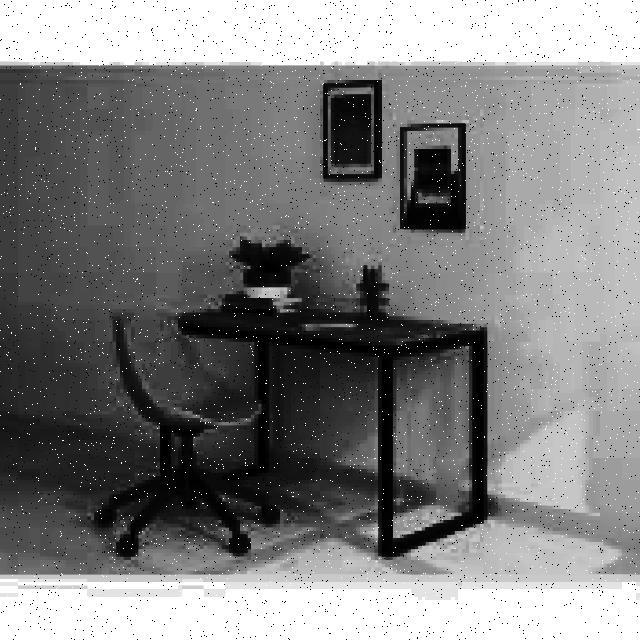book: (98, 302, 284, 553)
table: (182, 302, 491, 553)
